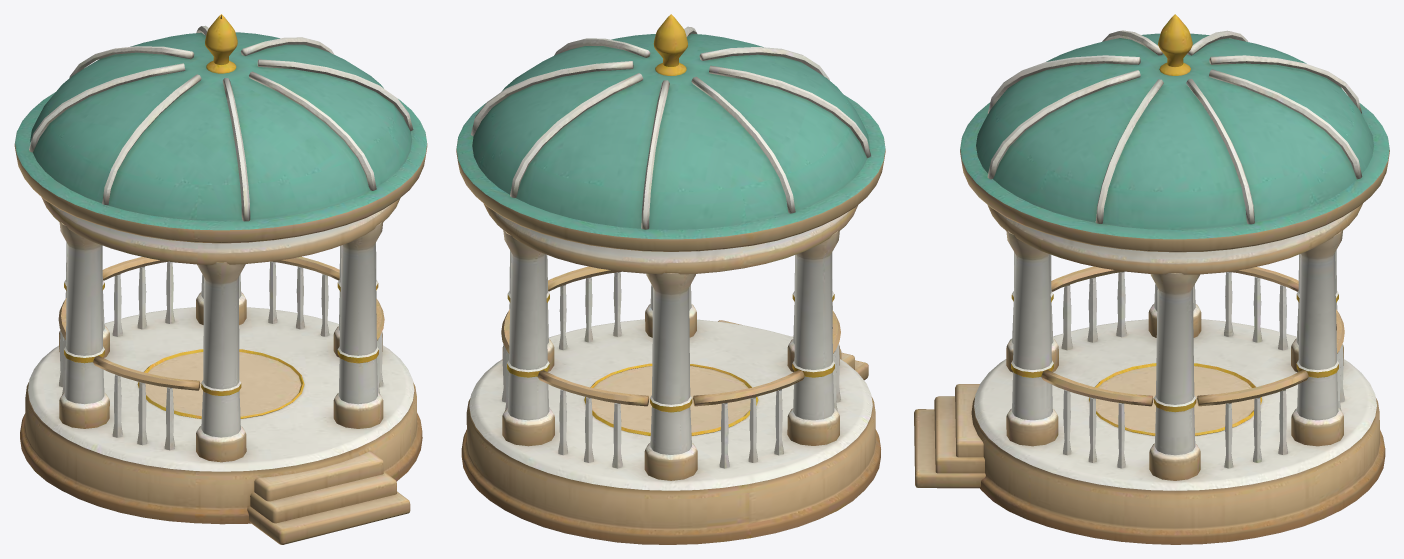
File: bandstand.glb
3 renders of one model, left to right at view 1: azimuth 30°, elevation 25°; view 2: azimuth 150°, elevation 25°; view 3: azimuth 270°, elevation 25°, orthographic. The views are drawn at different scales.
Visible parts, largest first — view 1: bandstand; view 2: bandstand; view 3: bandstand.
Boxes of the visible parts, x1,y1,x2,y2 form: bandstand: [14, 14, 427, 544]; bandstand: [456, 14, 885, 544]; bandstand: [914, 14, 1389, 544].
Bounding box in the file's own units: 3.14 × 3.57 × 3.47.
Materials: 6 (6 with a texture image).
